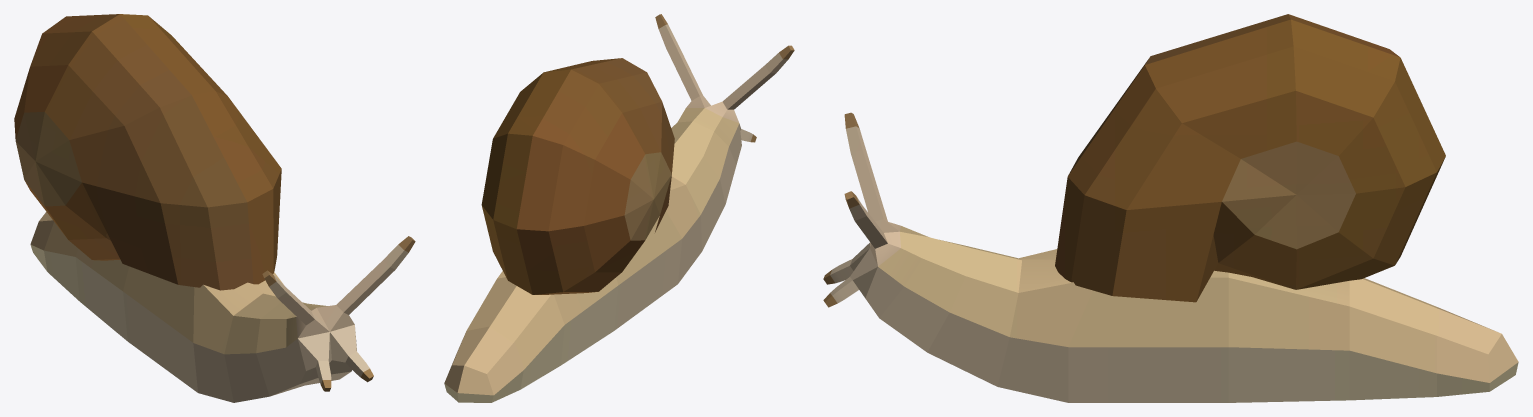
Rendered from aZ_cT-AIu2y.glb.
3 views of the same model, side by side, from view 1: azimuth 30°, elevation 25°; view 2: azimuth 150°, elevation 25°; view 3: azimuth 270°, elevation 25° (orthographic). The views are drawn at different scales.
Visible parts, largest first — view 1: Geo_Snail; view 2: Geo_Snail; view 3: Geo_Snail.
Part boxes in pixels (bbox=[...]): Geo_Snail: bbox=[14, 14, 415, 402]; Geo_Snail: bbox=[444, 14, 794, 402]; Geo_Snail: bbox=[823, 14, 1518, 402].
Size of the model in its own units: 0.6504 by 0.9999 by 1.83.
1 material, 1 textured.
